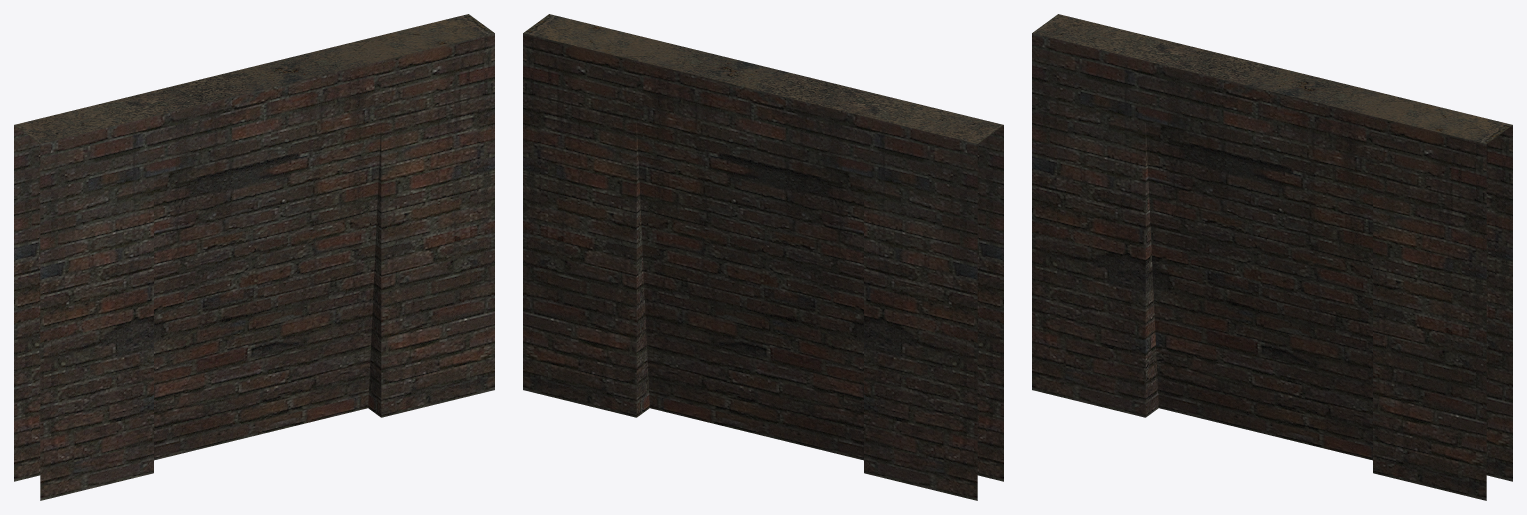
Rendered from wall_hs_1_t_2.obj.
The picture shows the model from 3 angles, left to right: view 1: azimuth 30°, elevation 25°; view 2: azimuth 150°, elevation 25°; view 3: azimuth 330°, elevation 25°; orthographic projection.
Visible parts, largest first — view 1: wall_hs_1_t_2; view 2: wall_hs_1_t_2; view 3: wall_hs_1_t_2.
Part boxes in pixels (x1=…): wall_hs_1_t_2: x1=14, y1=14, x2=494, y2=500; wall_hs_1_t_2: x1=523, y1=14, x2=1003, y2=500; wall_hs_1_t_2: x1=1032, y1=14, x2=1512, y2=500.
Size of the model in its own units: 4 by 3 by 0.4.
